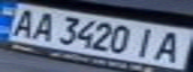0: (109, 21, 136, 56)
2: (90, 20, 115, 53)
3: (51, 15, 81, 46)
4: (72, 17, 96, 51)
A: (148, 29, 190, 64), (3, 6, 42, 38), (24, 9, 60, 43)
I: (130, 25, 163, 60)
